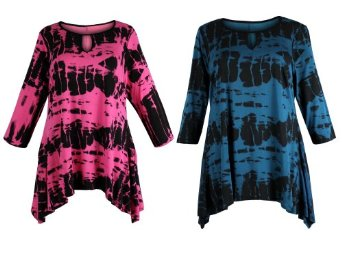C_blouse: (3, 17, 174, 227), (177, 16, 341, 229)
